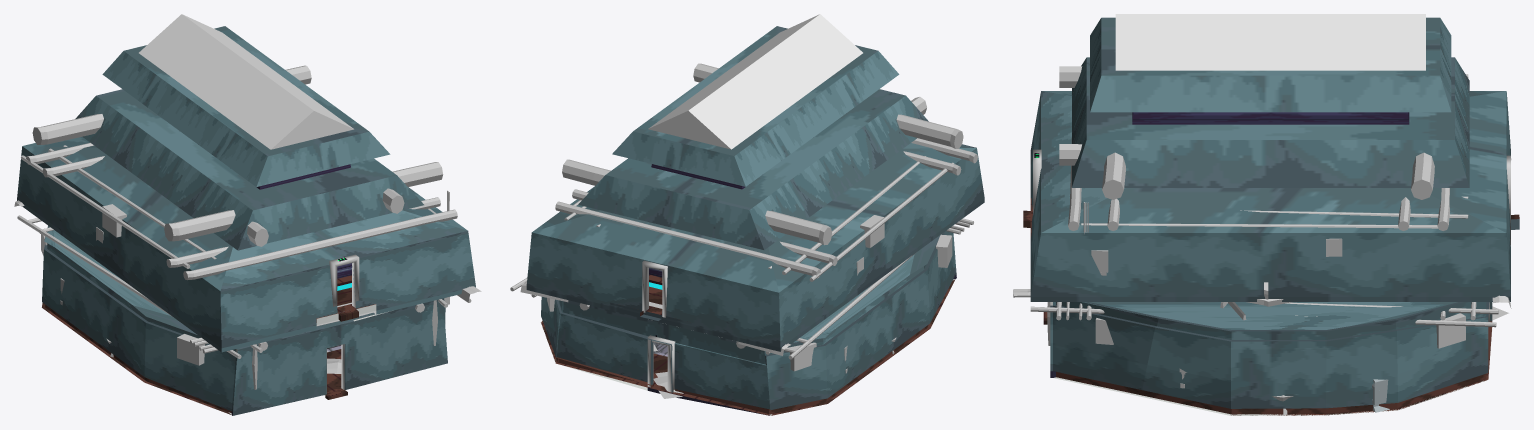
Rendered from CENARIO - HALL CENTRAL.fbx.
The picture shows the model from 3 angles, left to right: view 1: azimuth 30°, elevation 25°; view 2: azimuth 150°, elevation 25°; view 3: azimuth 270°, elevation 25°; orthographic projection. The views are drawn at different scales.
Parts seen in each view (by area): view 1: Cube.012; view 2: Cube.012; view 3: Cube.012.
Boxes of the visible parts, bbox=[...] form: Cube.012: bbox=[17, 14, 475, 415]; Cube.012: bbox=[510, 14, 984, 415]; Cube.012: bbox=[1023, 14, 1519, 415].
Size of the model in its own units: 7162 by 6322 by 8539.
